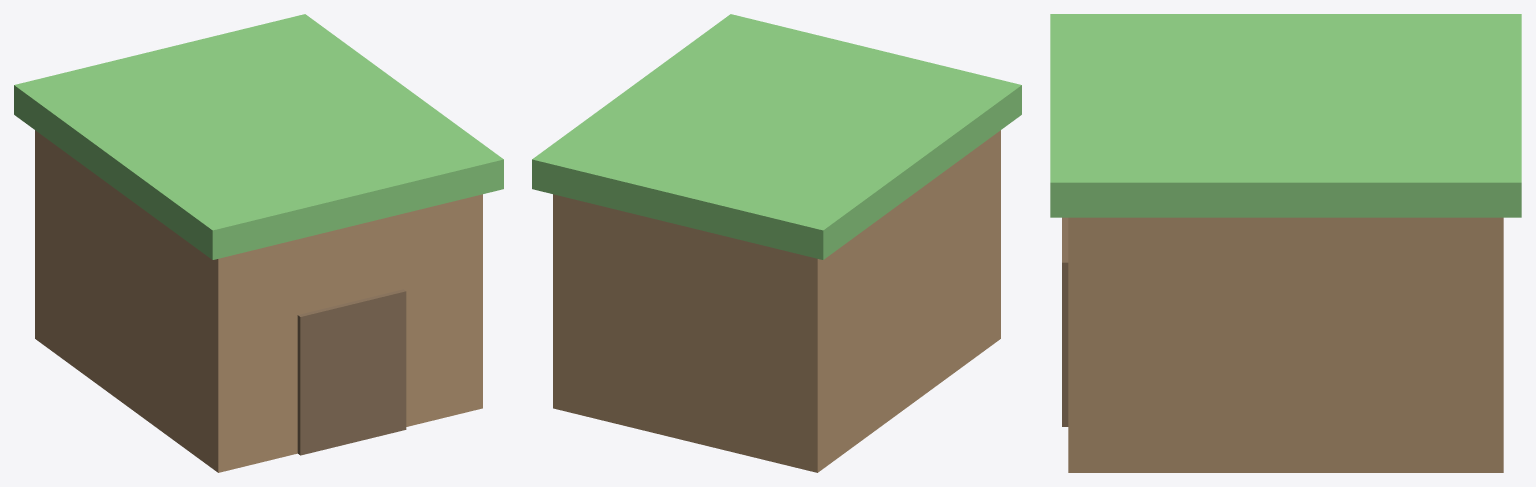
The model's file is Prop_Pet_AMF_Kennel_V10.glb.
3 renders of one model, left to right at view 1: azimuth 30°, elevation 25°; view 2: azimuth 150°, elevation 25°; view 3: azimuth 270°, elevation 25°, orthographic. The views are drawn at different scales.
Visible parts, largest first — view 1: Prop_Pet_AMF_Kennel_V10; view 2: Prop_Pet_AMF_Kennel_V10; view 3: Prop_Pet_AMF_Kennel_V10.
Part boxes in pixels (left/top/right/bottom): Prop_Pet_AMF_Kennel_V10: left=14, top=14, right=503, bottom=472; Prop_Pet_AMF_Kennel_V10: left=532, top=14, right=1021, bottom=472; Prop_Pet_AMF_Kennel_V10: left=1050, top=14, right=1521, bottom=472.
Size of the model in its own units: 1.54 by 1.27 by 1.82.
